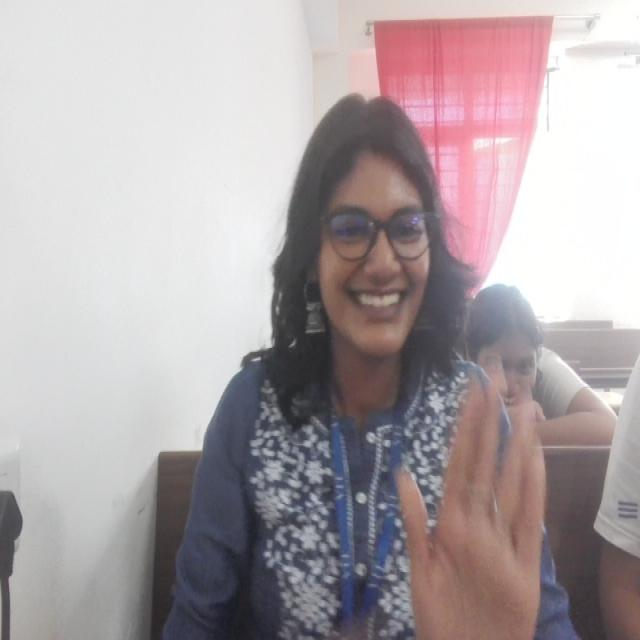hello: (384, 355, 547, 640)
